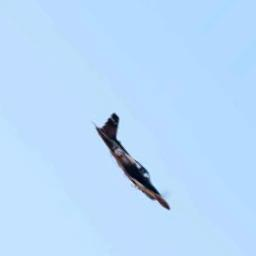Airplane: (94, 111, 171, 211)
